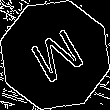M_SE: (22, 22, 88, 88)
